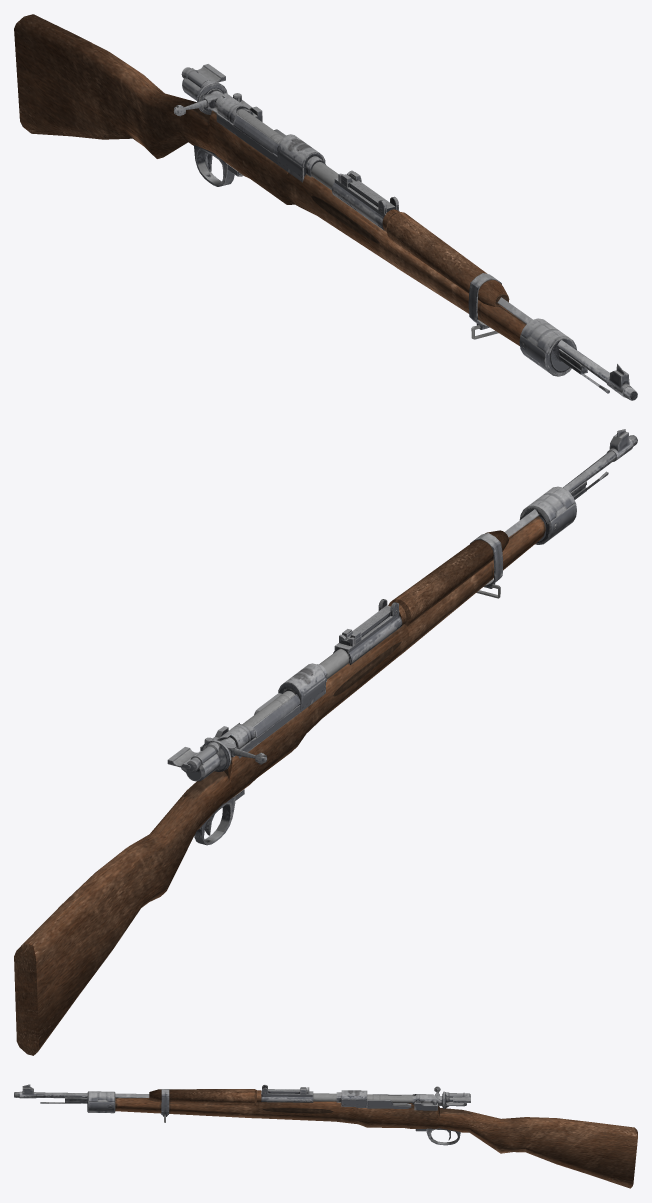
File: 38式步枪.FBX
3 views of the same model, one above another, from view 1: azimuth 30°, elevation 25°; view 2: azimuth 150°, elevation 25°; view 3: azimuth 270°, elevation 25° (orthographic). The views are drawn at different scales.
Parts seen in each view (by area): view 1: 38式步枪; view 2: 38式步枪; view 3: 38式步枪.
Boxes of the visible parts, bbox=[...] form: 38式步枪: bbox=[14, 14, 637, 400]; 38式步枪: bbox=[14, 429, 637, 1055]; 38式步枪: bbox=[14, 1084, 637, 1188].
Bounding box in the file's own units: 0.073 × 0.2092 × 1.15.
